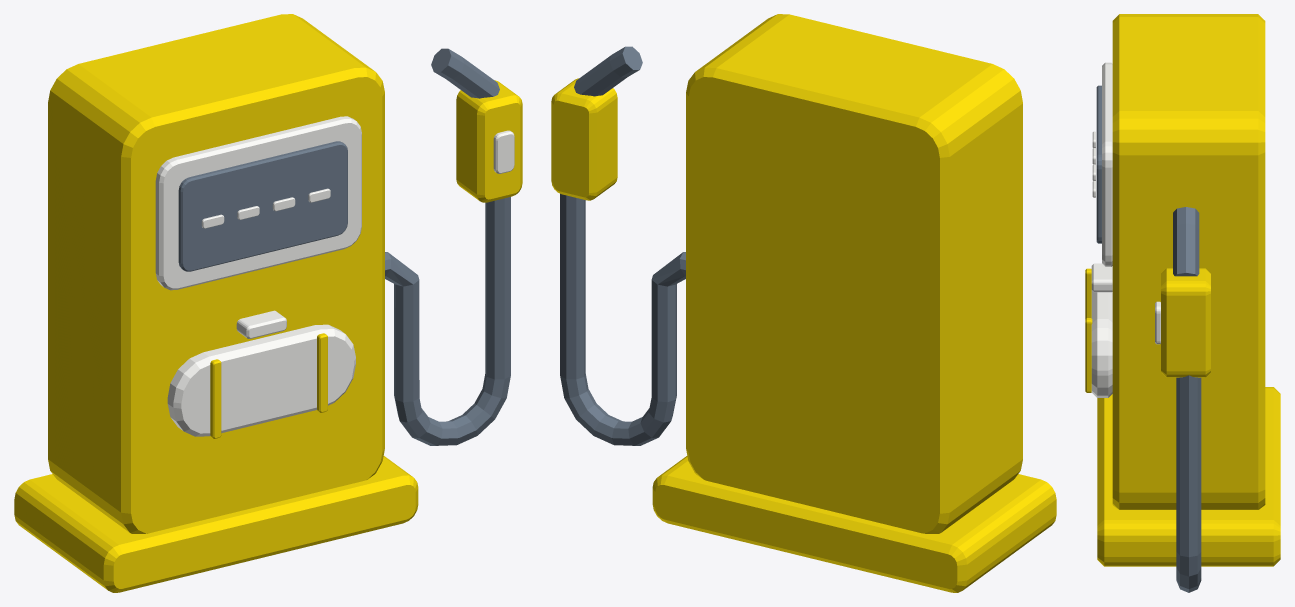
Rendered from cng.glb.
3 renders of one model, left to right at view 1: azimuth 30°, elevation 25°; view 2: azimuth 150°, elevation 25°; view 3: azimuth 270°, elevation 25°, orthographic. The views are drawn at different scales.
Parts seen in each view (by area): view 1: cng; view 2: cng; view 3: cng.
Part boxes in pixels (x1=…): cng: x1=14, y1=14, x2=522, y2=592; cng: x1=551, y1=14, x2=1056, y2=592; cng: x1=1085, y1=14, x2=1280, y2=592.
Size of the model in its own units: 1.78 by 1.73 by 0.7025.
